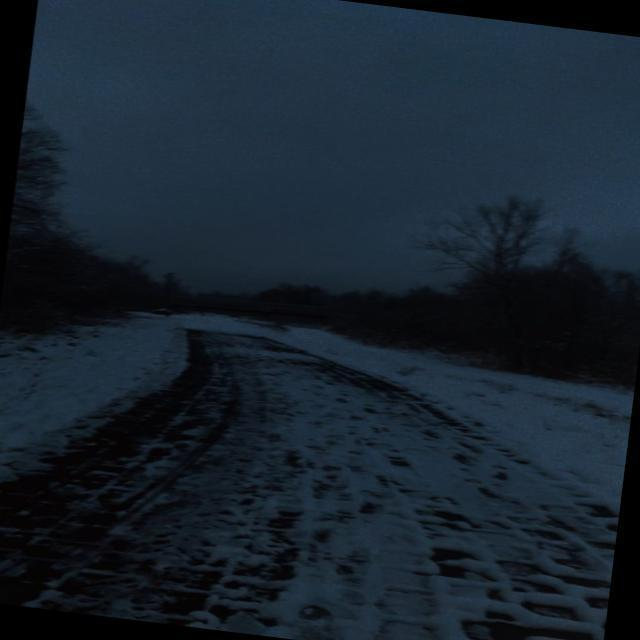off: (132, 186, 410, 436)
